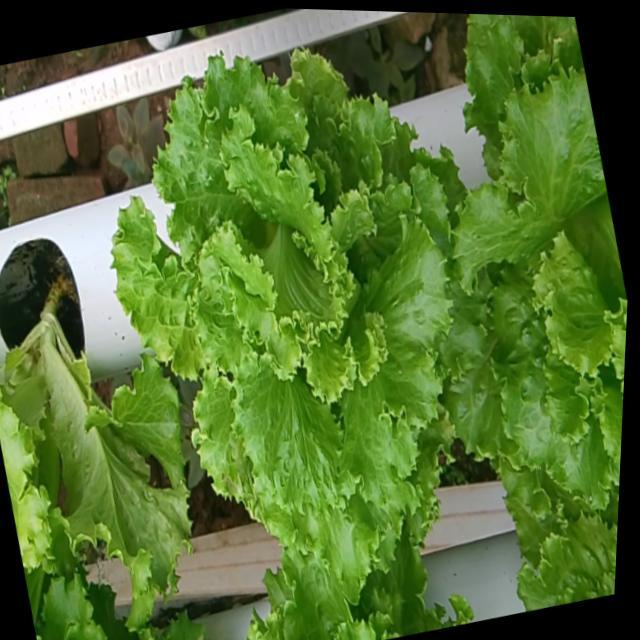Mature: (103, 40, 446, 569), (433, 45, 627, 498)
